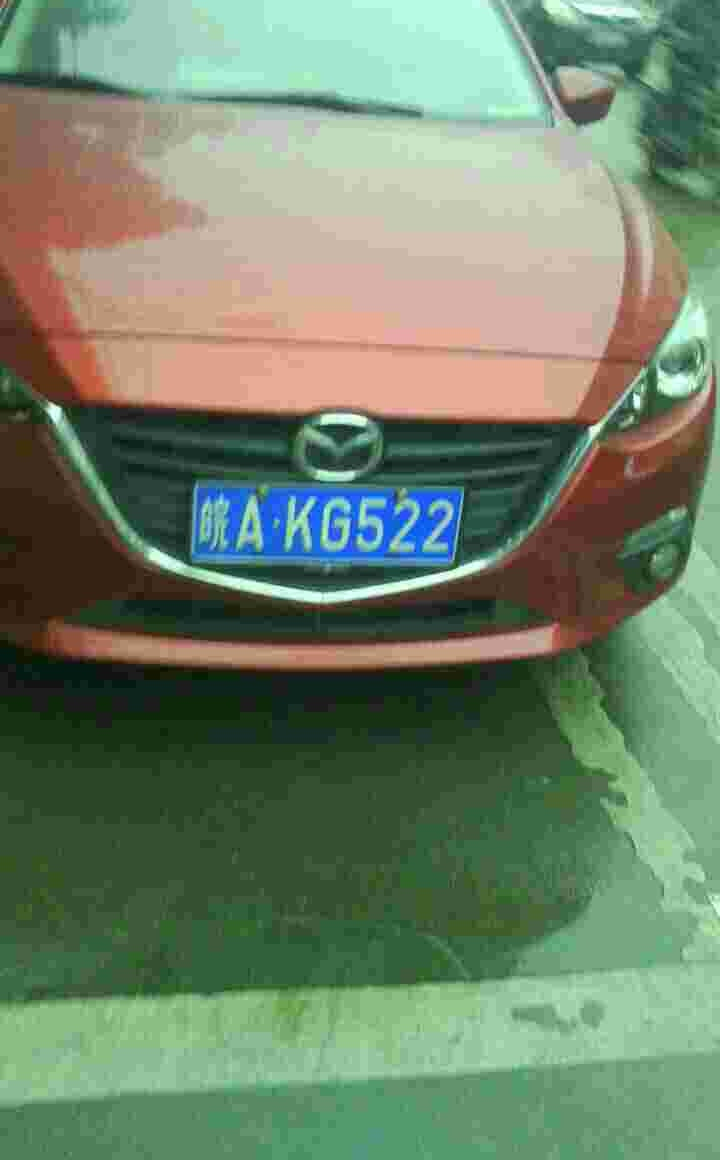license_plate: (184, 483, 448, 572)
